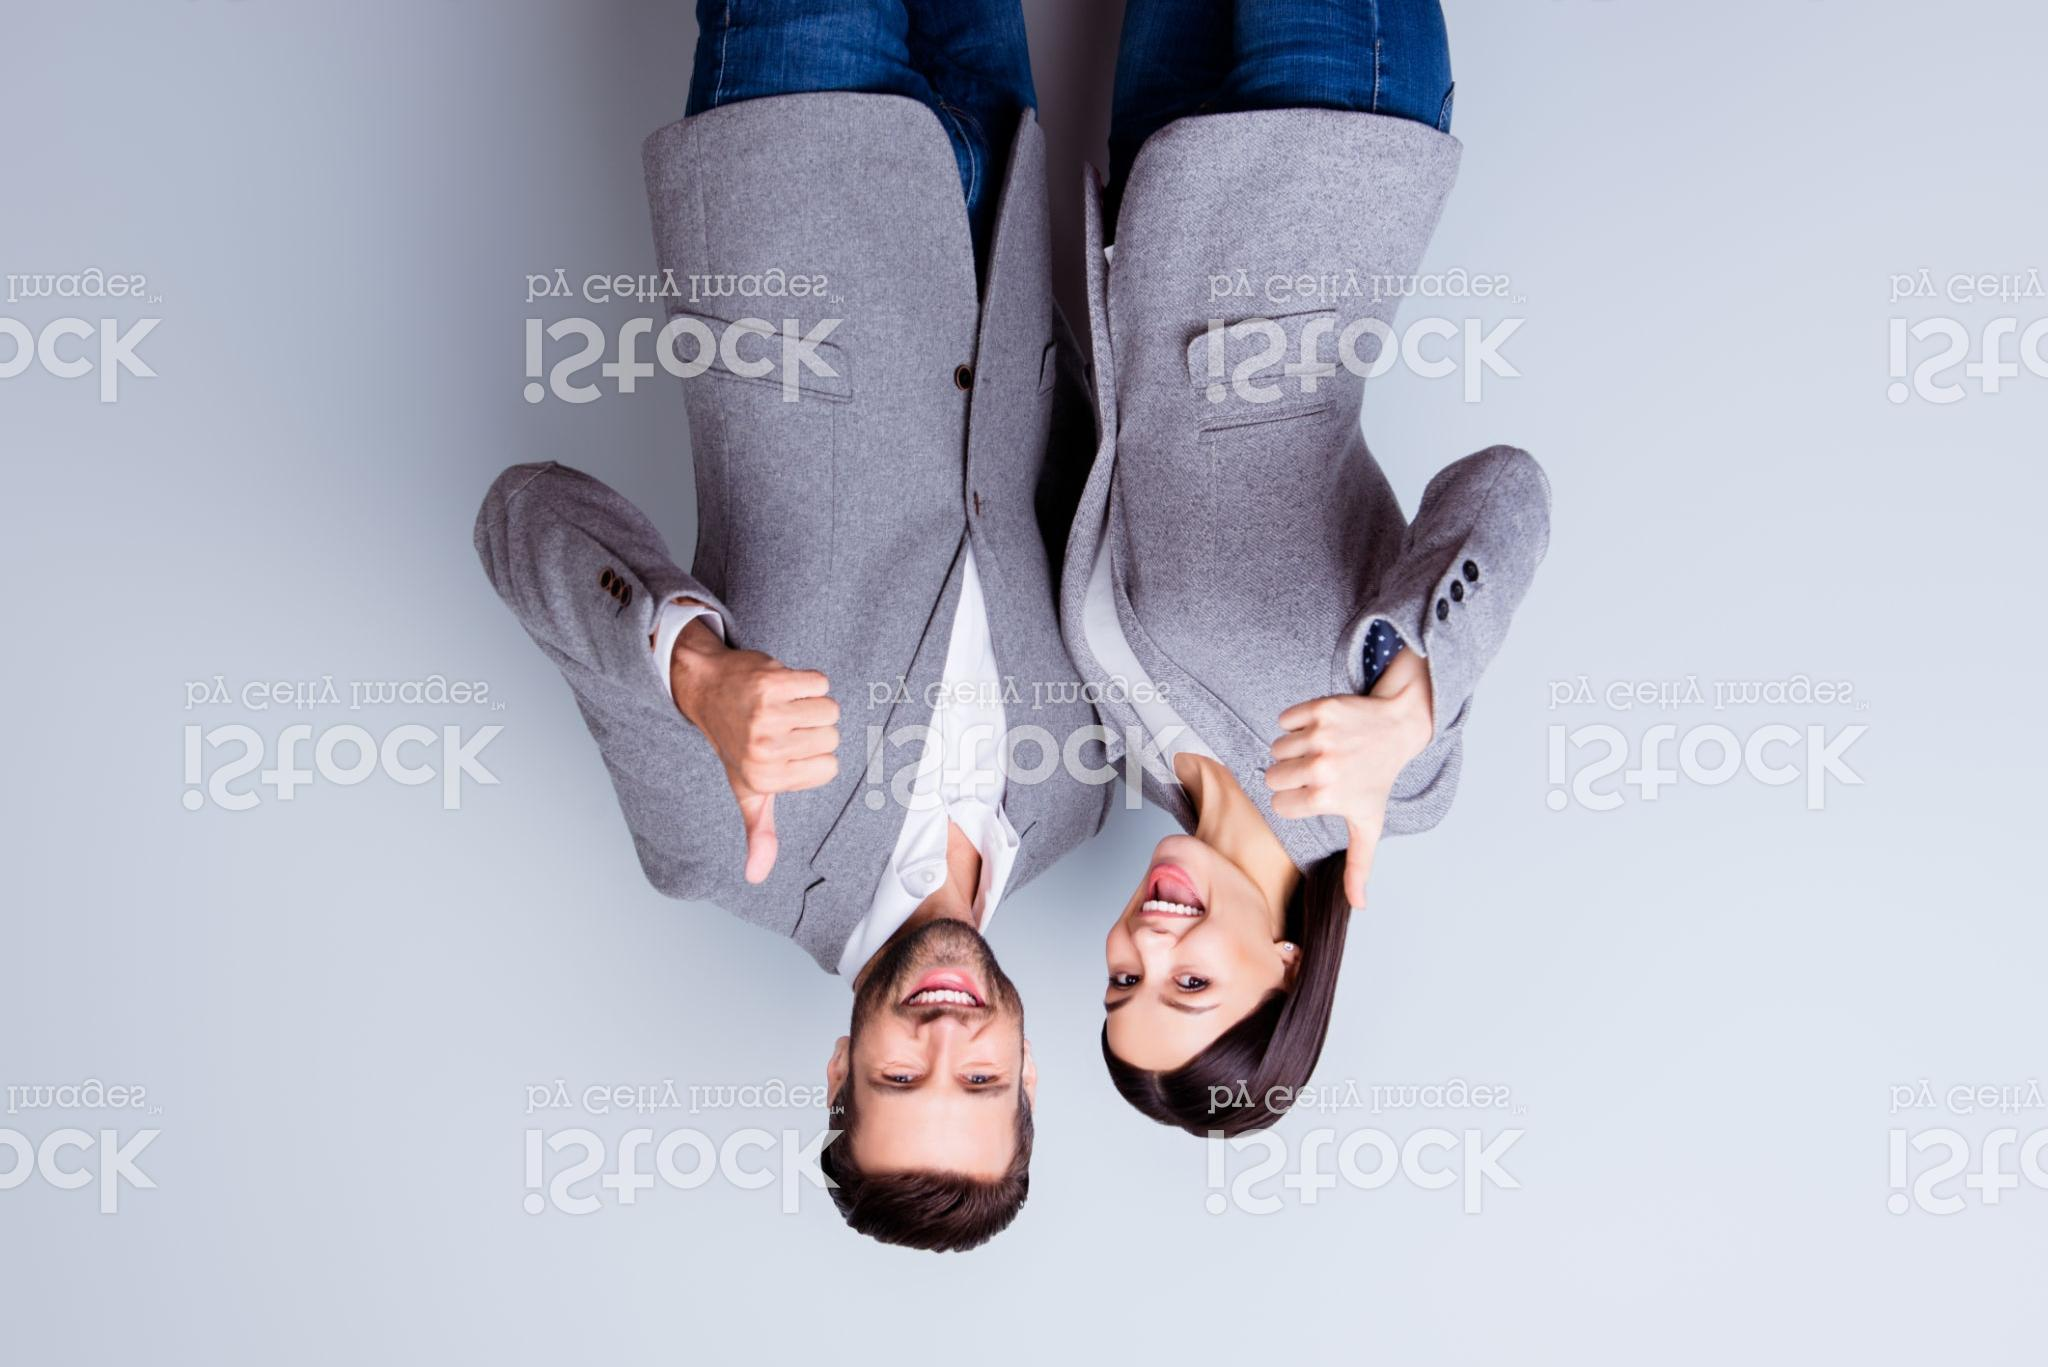thumbsdown: (717, 655, 843, 889), (1263, 691, 1388, 911)
